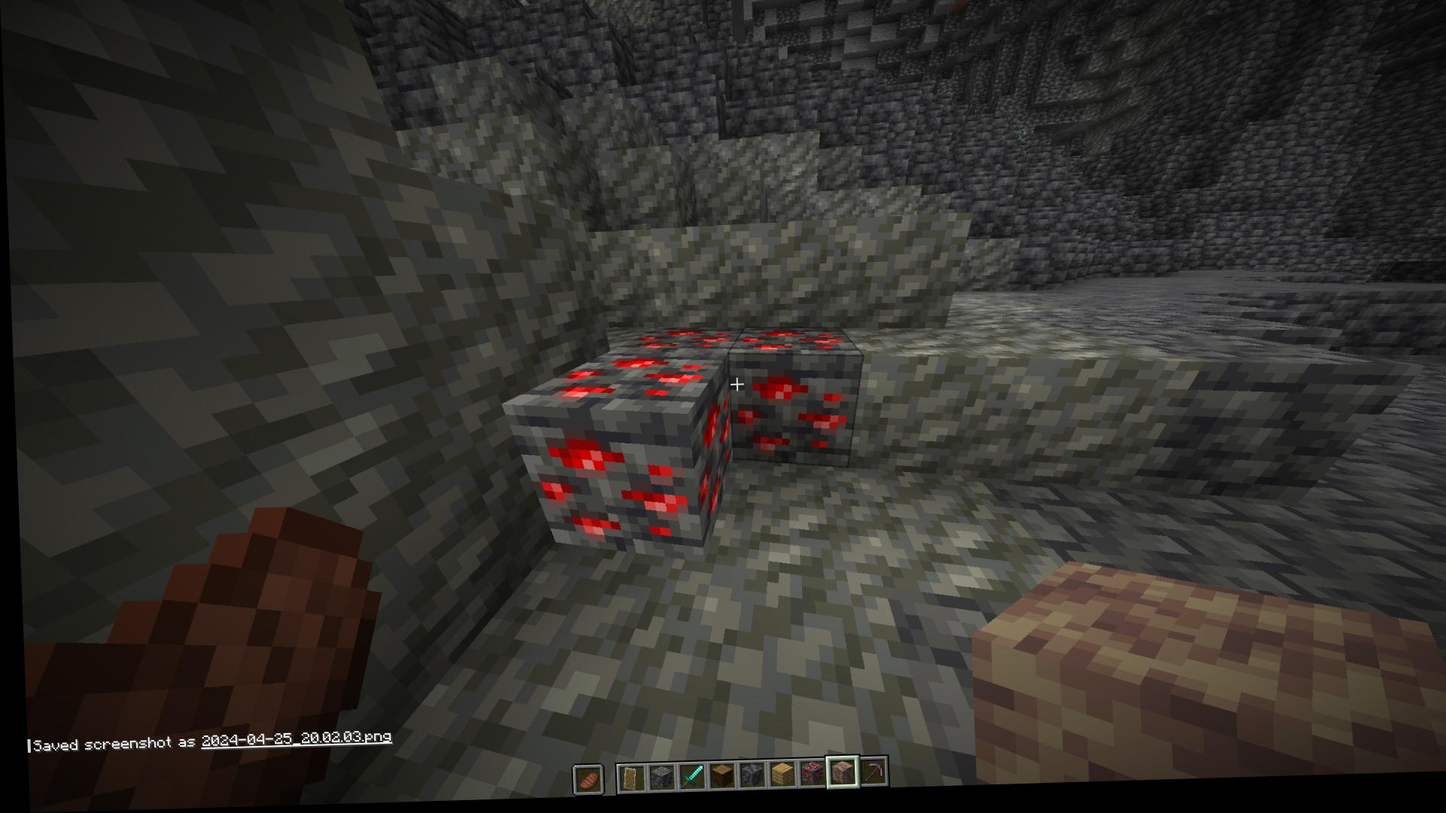redstone ore: (523, 424, 685, 553), (734, 364, 857, 470), (552, 351, 709, 420), (688, 386, 733, 533), (732, 324, 850, 362), (638, 327, 733, 360)
